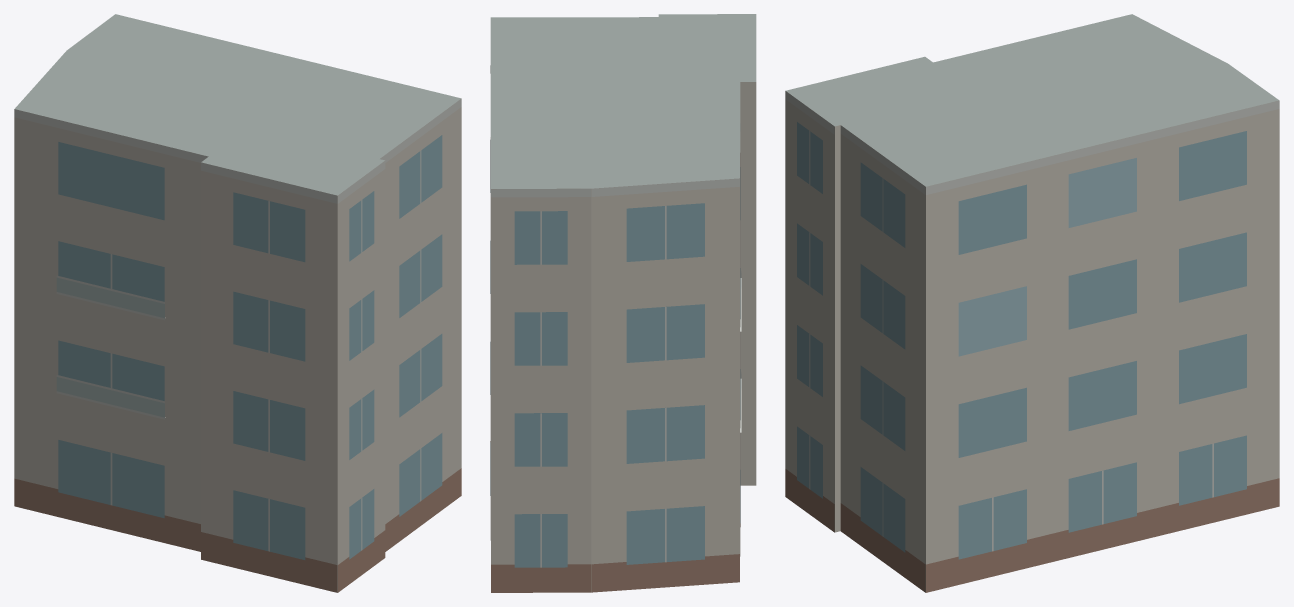
Rendered from survey-upis-33044215.glb.
The picture shows the model from 3 angles, left to right: view 1: azimuth 30°, elevation 25°; view 2: azimuth 150°, elevation 25°; view 3: azimuth 270°, elevation 25°; orthographic projection. The views are drawn at different scales.
Visible parts, largest first — view 1: survey-upis-33044215.tmp; view 2: survey-upis-33044215.tmp; view 3: survey-upis-33044215.tmp.
Boxes of the visible parts, x1,y1,x2,y2 form: survey-upis-33044215.tmp: (14,14,461,592); survey-upis-33044215.tmp: (490,14,756,592); survey-upis-33044215.tmp: (785,14,1279,592).
Size of the model in its own units: 10.68 by 11.7 by 12.91.
